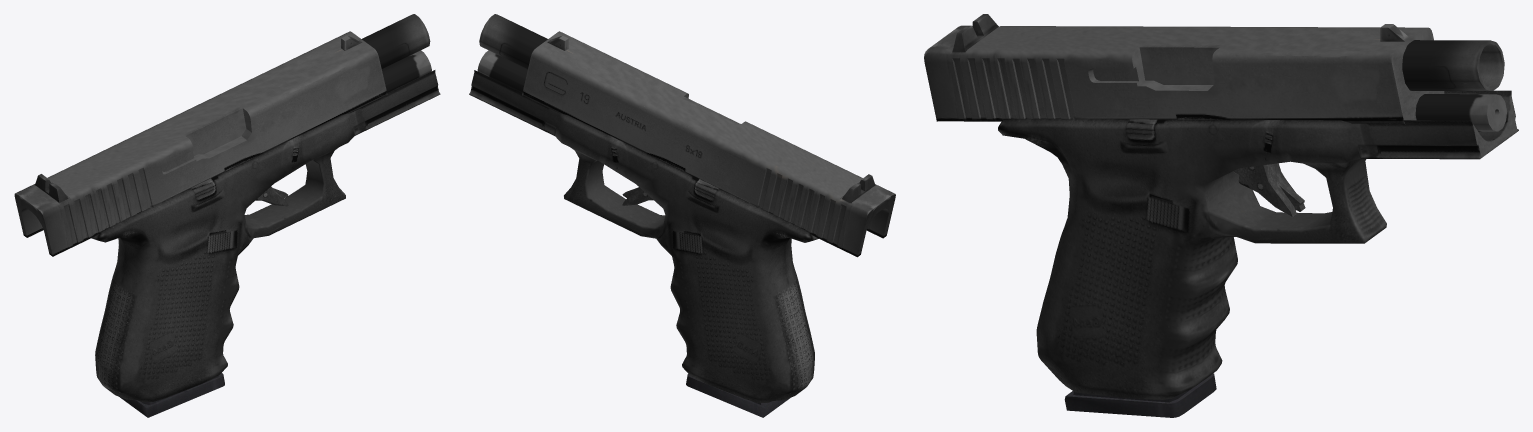
The model's file is pistol_000007.obj.
3 renders of one model, left to right at view 1: azimuth 30°, elevation 25°; view 2: azimuth 150°, elevation 25°; view 3: azimuth 330°, elevation 25°, orthographic. The views are drawn at different scales.
Parts seen in each view (by area): view 1: Grip, Object001, Object002, Object003, Object004; view 2: Grip, Object001, Object002, Object003; view 3: Grip, Object001, Object002, Object003, Object004.
Boxes of the visible parts, bbox=[...] form: Grip: bbox=[91, 70, 440, 402]; Object001: bbox=[14, 31, 387, 256]; Object002: bbox=[362, 14, 431, 92]; Object003: bbox=[120, 373, 224, 417]; Object004: bbox=[255, 186, 288, 206]; Grip: bbox=[469, 70, 818, 402]; Object001: bbox=[522, 31, 895, 257]; Object002: bbox=[477, 14, 547, 92]; Object003: bbox=[686, 373, 789, 417]; Grip: bbox=[998, 90, 1518, 399]; Object001: bbox=[924, 14, 1444, 124]; Object002: bbox=[1402, 40, 1506, 131]; Object003: bbox=[1064, 373, 1216, 417]; Object004: bbox=[1233, 163, 1305, 217].
Bounding box in the file's own units: 0.6968 × 0.5363 × 0.1104.
1 material, 1 textured.
